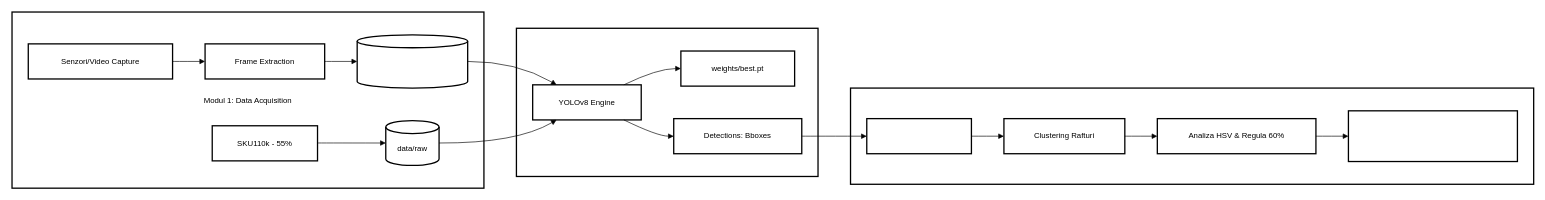
The diagram is 1545 pixels wide and 200 high, and some of its shapes have lost their labels. The shapes that lost their labels are listed below. From the top down, each one's box as (x1, y1, x2, y2) in pixels, then its label:
(356, 34, 468, 88): data/generated - 45%
(515, 27, 818, 177): Modul 2: Neural Network
(866, 118, 972, 154): Flask Backend
(850, 87, 1534, 185): Modul 3: Web UI & Business Logic
(1347, 110, 1518, 162): Interfata Web / Raport HTML
